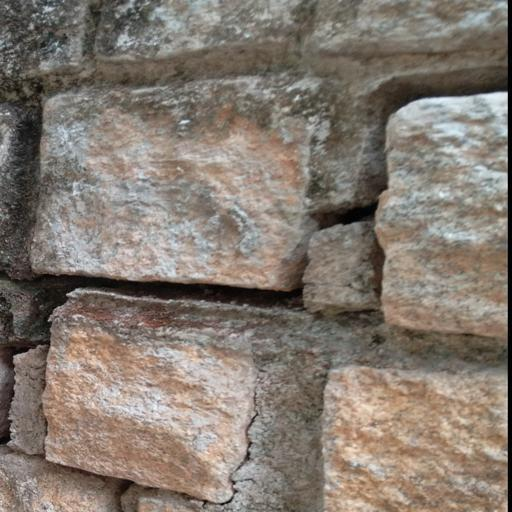major_crack: (284, 6, 505, 329), (3, 246, 301, 371), (199, 354, 270, 512), (1, 367, 59, 474)
